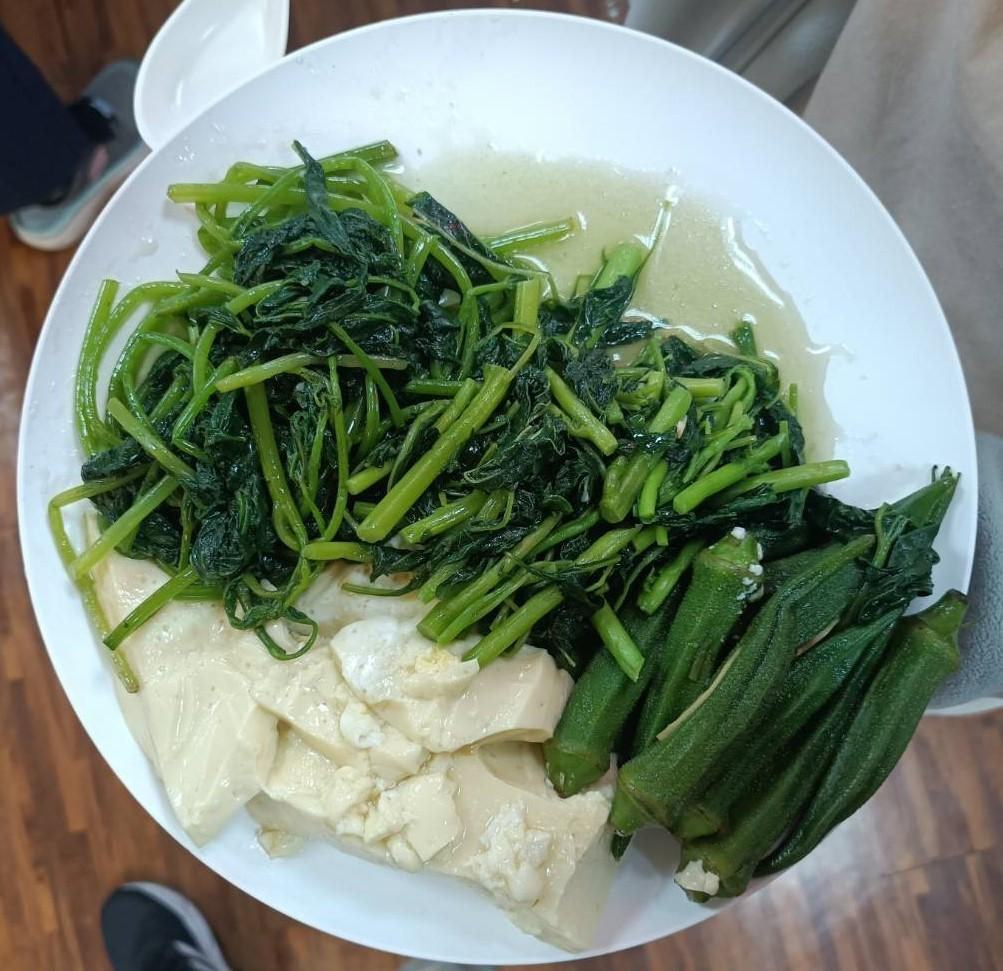big fried chicken leg: (20, 8, 1003, 971)
braised fish fillet: (540, 452, 984, 907), (82, 136, 498, 595), (96, 552, 609, 889), (417, 298, 794, 642)
